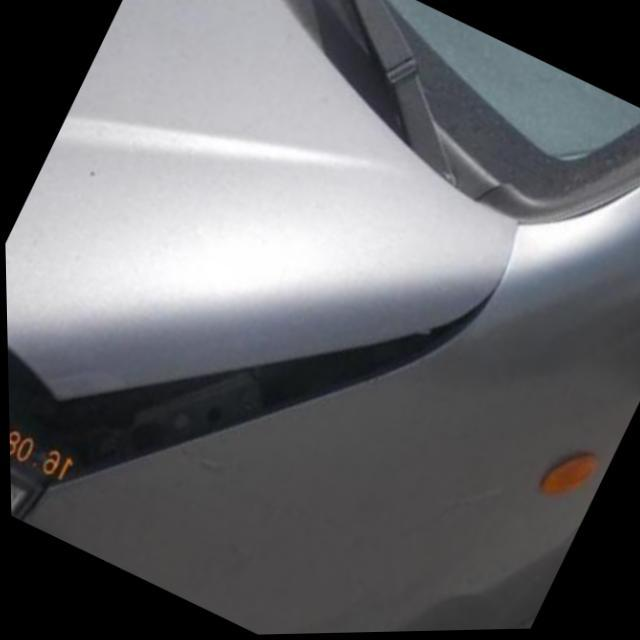dislocated part: (6, 291, 497, 484)
